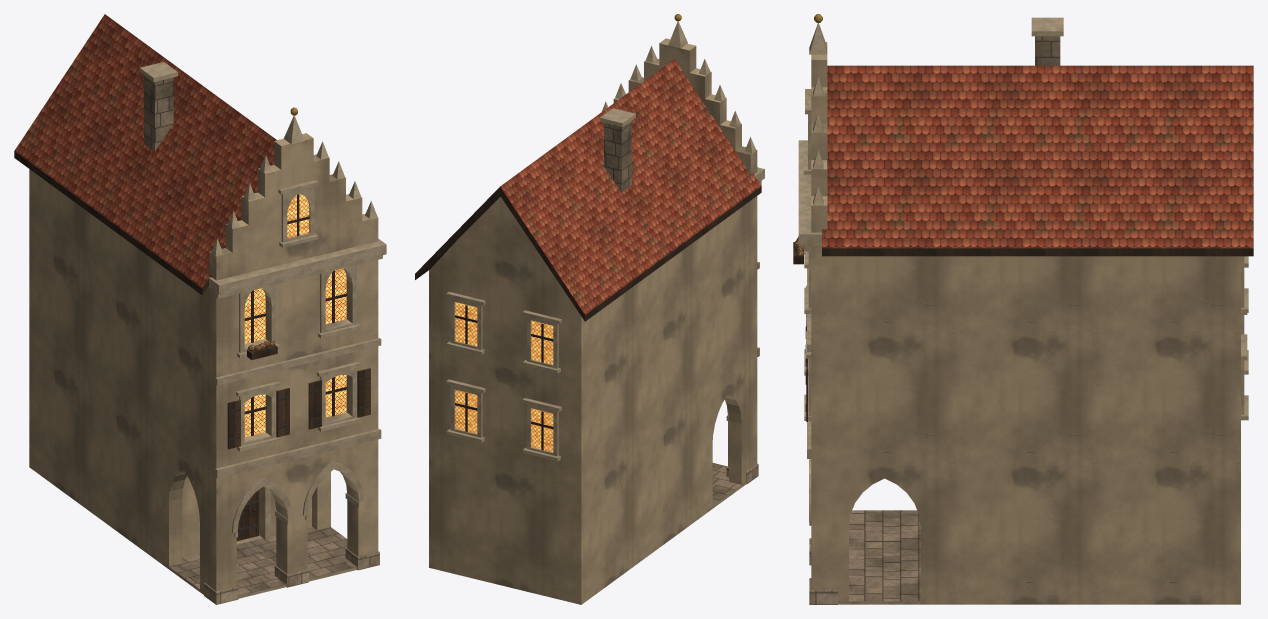
Rendered from house_burgher_e.gltf.
3 renders of one model, left to right at view 1: azimuth 30°, elevation 25°; view 2: azimuth 150°, elevation 25°; view 3: azimuth 270°, elevation 25°, orthographic. The views are drawn at different scales.
Visible parts, largest first — view 1: house_burgher_e_mesh, INT_window_house_burgher_e_0, INT_window_house_burgher_e_1, INT_door_house_burgher_e, INT_window_house_burgher_e_1_shutter_R, INT_window_house_burgher_e_0_shutter_R, INT_window_house_burgher_e_0_shutter_L, INT_window_house_burgher_e_1_shutter_L; view 2: house_burgher_e_mesh; view 3: house_burgher_e_mesh.
Part boxes in pixels (x1,y1,x2,y2): house_burgher_e_mesh: [14, 14, 386, 604]; INT_window_house_burgher_e_0: [244, 394, 266, 436]; INT_window_house_burgher_e_1: [325, 375, 347, 417]; INT_door_house_burgher_e: [236, 490, 258, 541]; INT_window_house_burgher_e_1_shutter_R: [357, 368, 370, 417]; INT_window_house_burgher_e_0_shutter_R: [276, 388, 289, 437]; INT_window_house_burgher_e_0_shutter_L: [227, 400, 240, 449]; INT_window_house_burgher_e_1_shutter_L: [308, 380, 321, 429]; house_burgher_e_mesh: [415, 14, 764, 604]; house_burgher_e_mesh: [793, 14, 1253, 604].
Size of what is drawn, in the model's own units: 6.7 by 16.78 by 12.85.
Materials: 14 (14 with a texture image).
